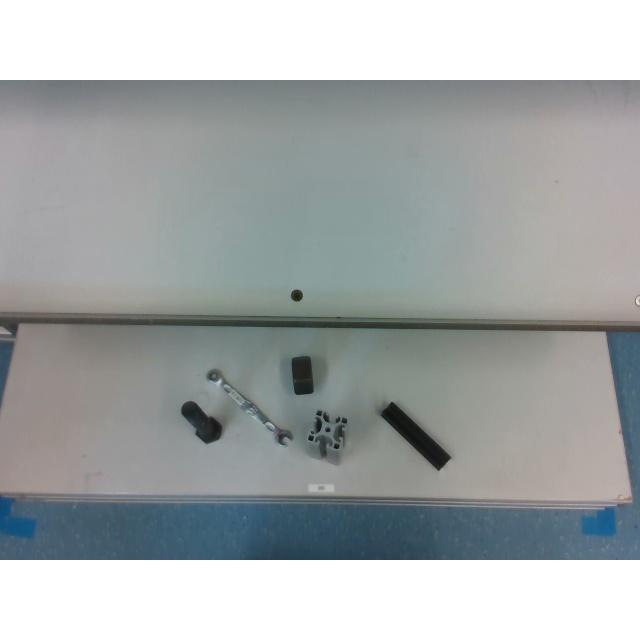F20_20_B: (381, 402, 451, 470)
M20_100: (182, 401, 222, 443)
M30: (291, 356, 313, 394)
S40_40_G: (304, 409, 348, 466)
Wrench: (208, 369, 292, 445)
